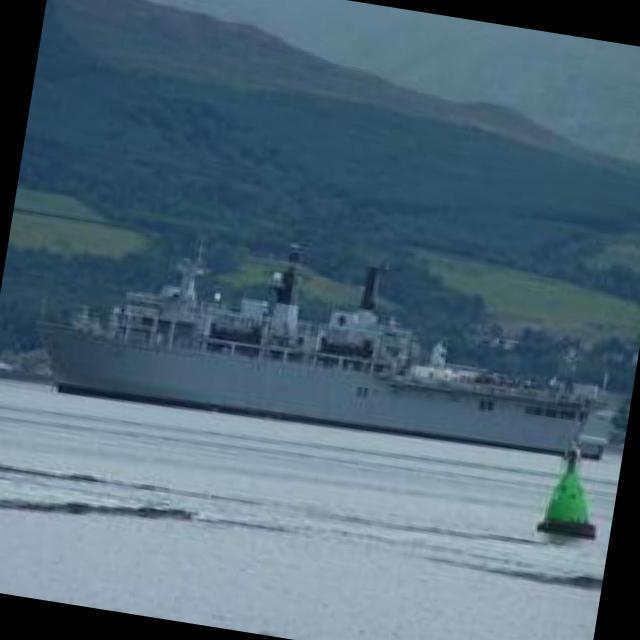boat: (6, 262, 610, 464)
